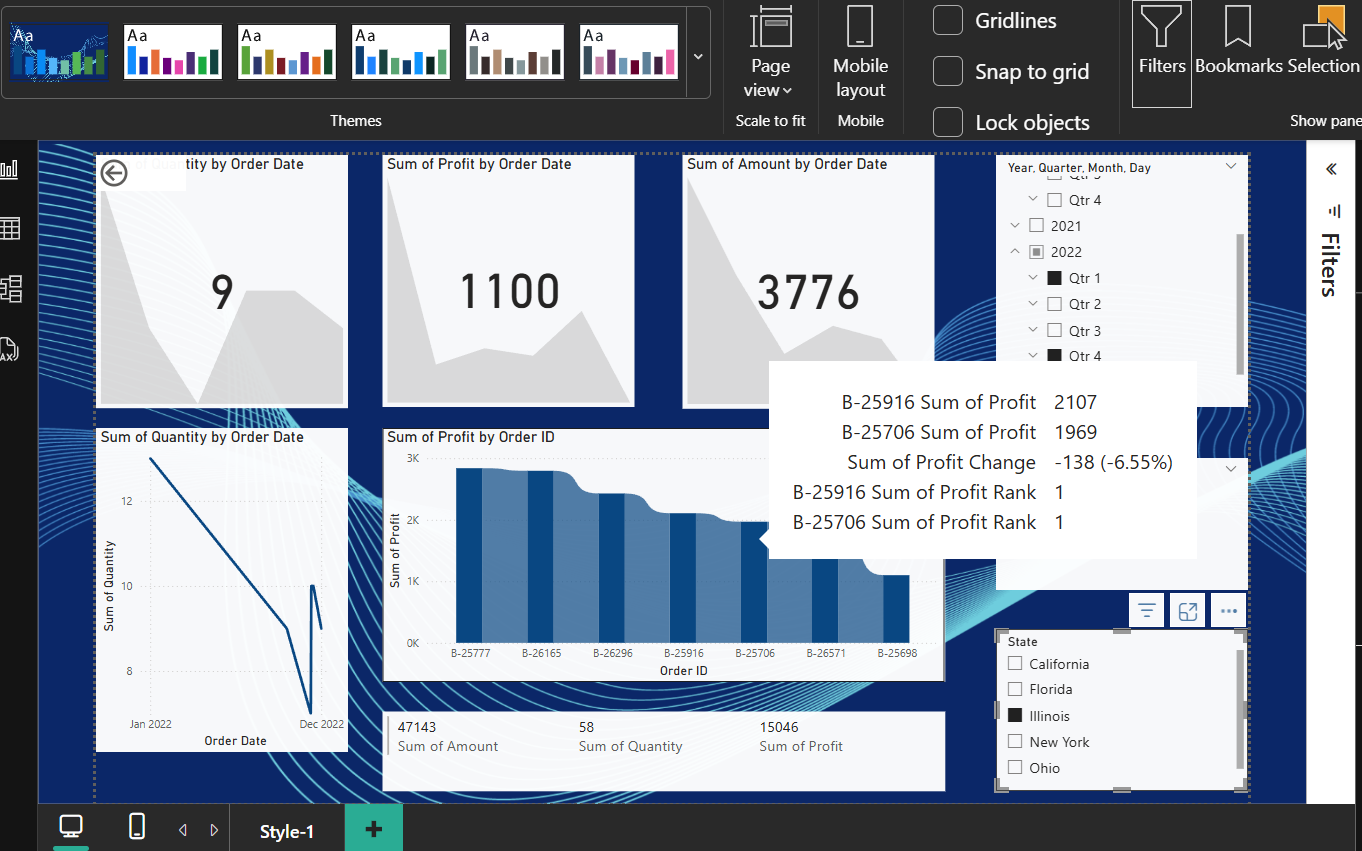

The page's visual inventory and layout, read from the dashboard file:
{"tool":"powerbi","page":{"name":"Style-1","canvas":[1280,720],"ordinal":0},"visuals":[{"type":"kpi","fields":{"TrendLine":["Sales Dataset.Order Date"],"Indicator":["Sum(Sales Dataset.Profit)"]},"box":[318,0,280,280],"z":0},{"type":"kpi","fields":{"Indicator":["Sum(Sales Dataset.Quantity)"],"TrendLine":["Sales Dataset.Order Date"]},"box":[0,0,279.7,281.6],"z":1000},{"type":"kpi","fields":{"Indicator":["Sum(Sales Dataset.Amount)"],"TrendLine":["Sales Dataset.Order Date"]},"box":[651.7,0,280,281.7],"z":2000},{"type":"lineChart","fields":{"Y":["Sum(Sales Dataset.Quantity)"],"Category":["Sales Dataset.Order Date"]},"box":[0,303.3,280,360],"z":3000},{"type":"slicer","fields":{"Values":["Sales Dataset.Order Date.Variation.Date Hierarchy.Year","Sales Dataset.Order Date.Variation.Date Hierarchy.Quarter","Sales Dataset.Order Date.Variation.Date Hierarchy.Month","Sales Dataset.Order Date.Variation.Date Hierarchy.Day"]},"box":[1000,0,280,280],"z":4000},{"type":"slicer","fields":{"Values":["Sales Dataset.Category"]},"box":[1000,336.7,280,146.7],"z":5000},{"type":"actionButton","box":[0,0,100,40],"z":6000},{"type":"multiRowCard","fields":{"Values":["Sum(Sales Dataset.Amount)","Sum(Sales Dataset.Quantity)","Sum(Sales Dataset.Profit)"]},"box":[318.3,618.3,625,88.3],"z":6001},{"type":"ribbonChart","fields":{"Category":["Sales Dataset.Order ID"],"Y":["Sum(Sales Dataset.Profit)"]},"box":[318.3,303.3,625,281.7],"z":6002},{"type":"slicer","fields":{"Values":["Sales Dataset.State"]},"box":[1000,526.7,280,180],"z":6003}]}

Visuals, with their boxes on the page's 1280x720 design canvas (x1, y1, x2, y2). These are canvas units, not pixel positions in the 1362x851 screenshot, which may show the page scaled, cropped or inside an application window:
kpi - Sales Dataset.Order Date x Sum(Sales Dataset.Profit): (left=318, top=0, right=598, bottom=280)
kpi - Sum(Sales Dataset.Quantity) x Sales Dataset.Order Date: (left=0, top=0, right=280, bottom=282)
kpi - Sum(Sales Dataset.Amount) x Sales Dataset.Order Date: (left=652, top=0, right=932, bottom=282)
lineChart - Sum(Sales Dataset.Quantity) x Sales Dataset.Order Date: (left=0, top=303, right=280, bottom=663)
slicer - Sales Dataset.Order Date.Variation.Date Hierarchy.Year x Sales Dataset.Order Date.Variation.Date Hierarchy.Quarter: (left=1000, top=0, right=1280, bottom=280)
slicer - Sales Dataset.Category: (left=1000, top=337, right=1280, bottom=483)
actionButton: (left=0, top=0, right=100, bottom=40)
multiRowCard - Sum(Sales Dataset.Amount) x Sum(Sales Dataset.Quantity): (left=318, top=618, right=943, bottom=707)
ribbonChart - Sales Dataset.Order ID x Sum(Sales Dataset.Profit): (left=318, top=303, right=943, bottom=585)
slicer - Sales Dataset.State: (left=1000, top=527, right=1280, bottom=707)
